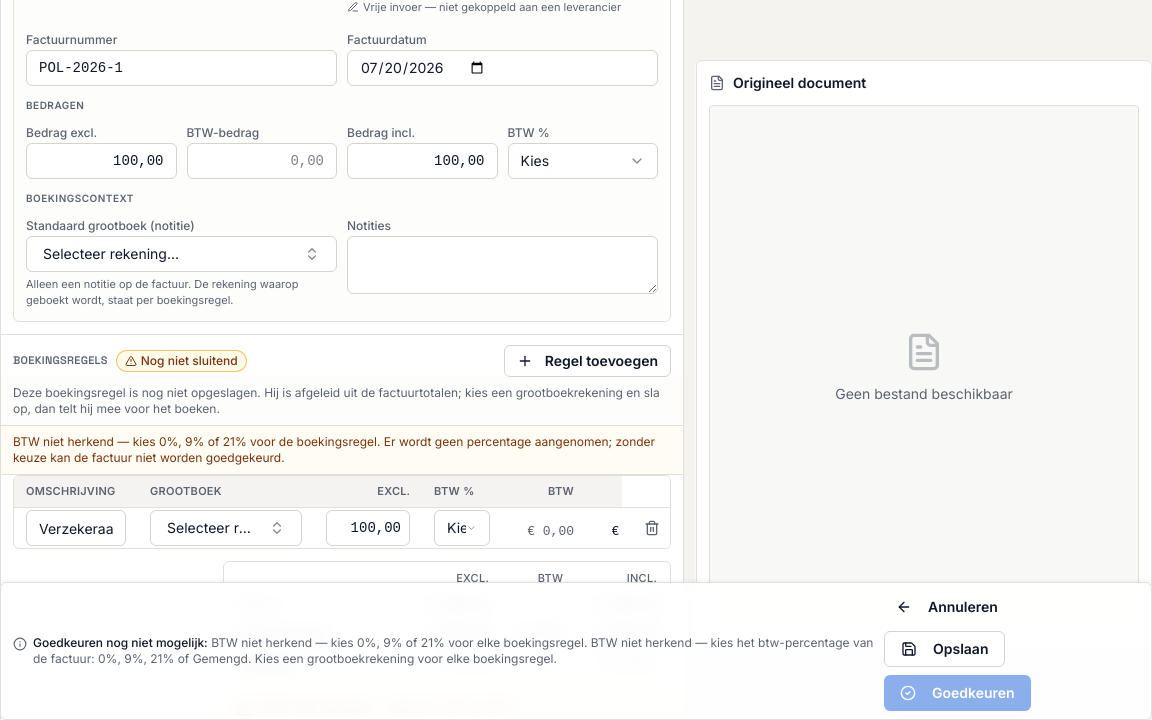
Test: A2-02 / D-01 — de €100/€0/€100-factuur wordt nooit stil € 121 › een nieuwe regel begint zonder percentage zolang de kop er geen heeft
The width and height of the screenshot is (1152, 720).
(page scrolled)
Click the button "Regel toevoegen" at (587, 360), box [504,344,671,376]
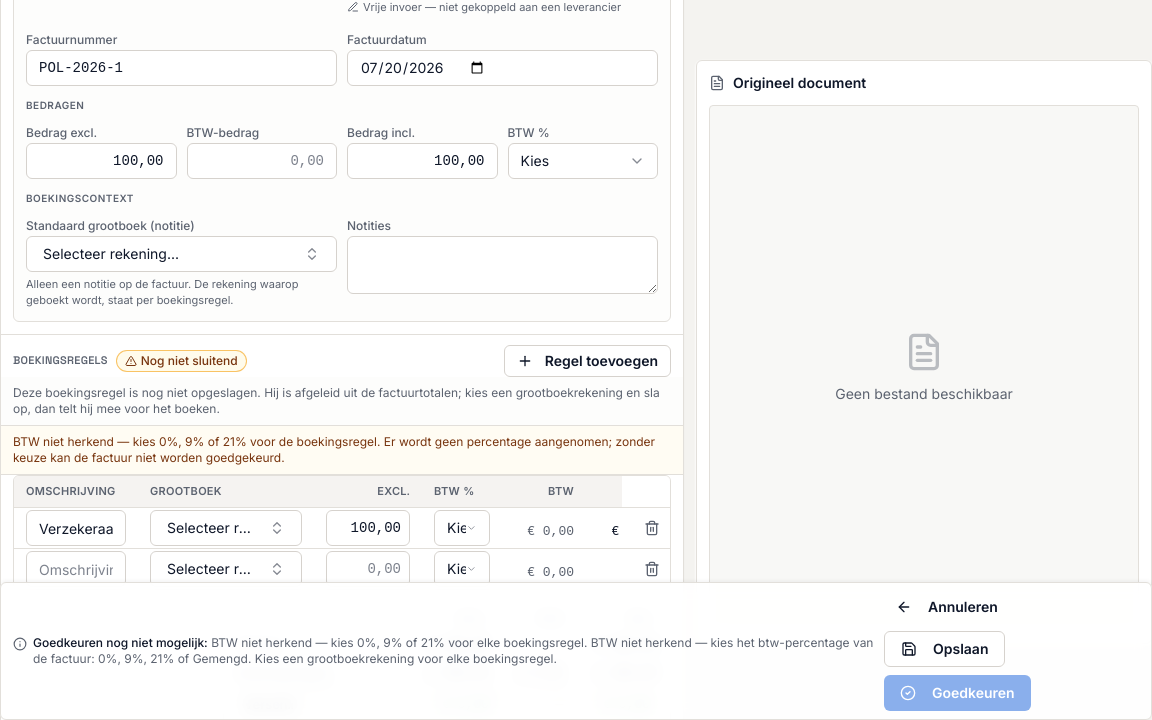
Result: the number of dropdowns named "BTW-percentage regel" is 2 at [434,510,490,546]; [434,551,490,587]
